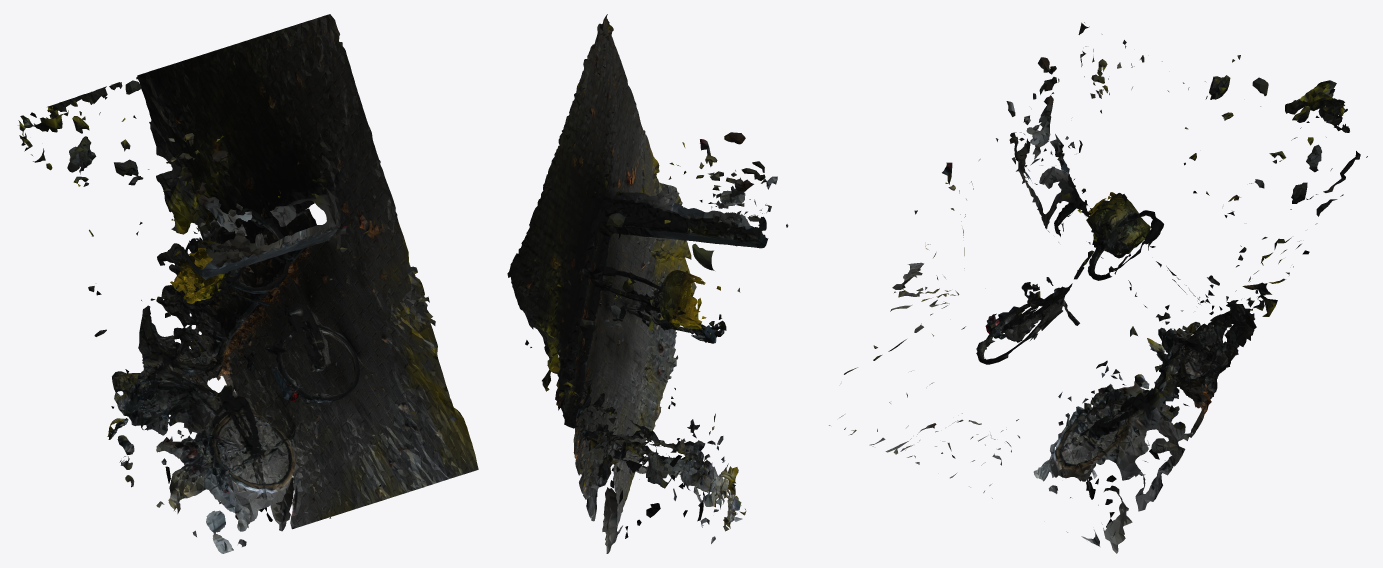
The model's file is bike_s.glb.
3 renders of one model, left to right at view 1: azimuth 30°, elevation 25°; view 2: azimuth 150°, elevation 25°; view 3: azimuth 270°, elevation 25°, orthographic. The views are drawn at different scales.
Bounding box in the file's own units: 7.46 × 17.08 × 15.54.
Materials: 1 (1 with a texture image).
